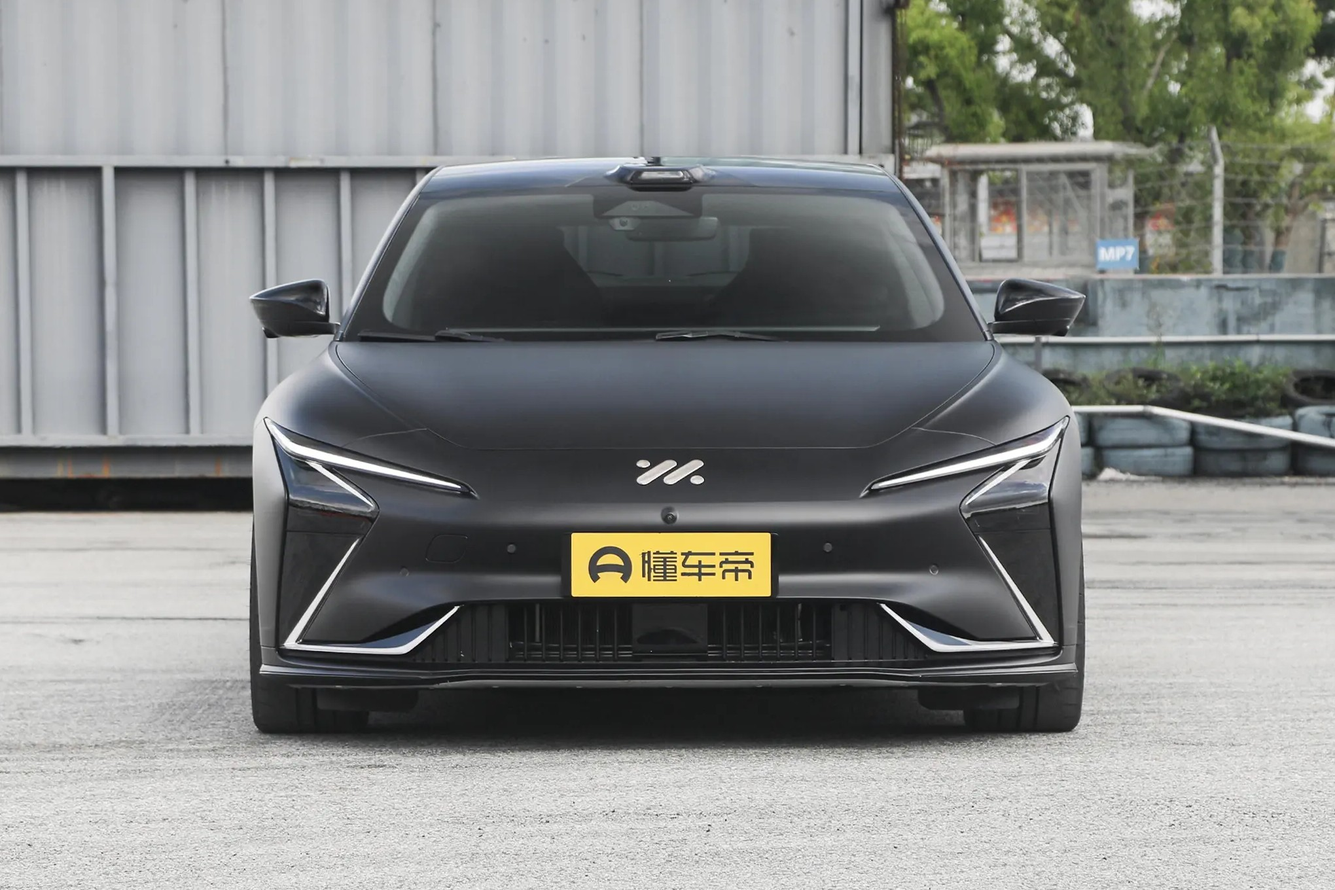IM: (637, 459, 703, 484)
